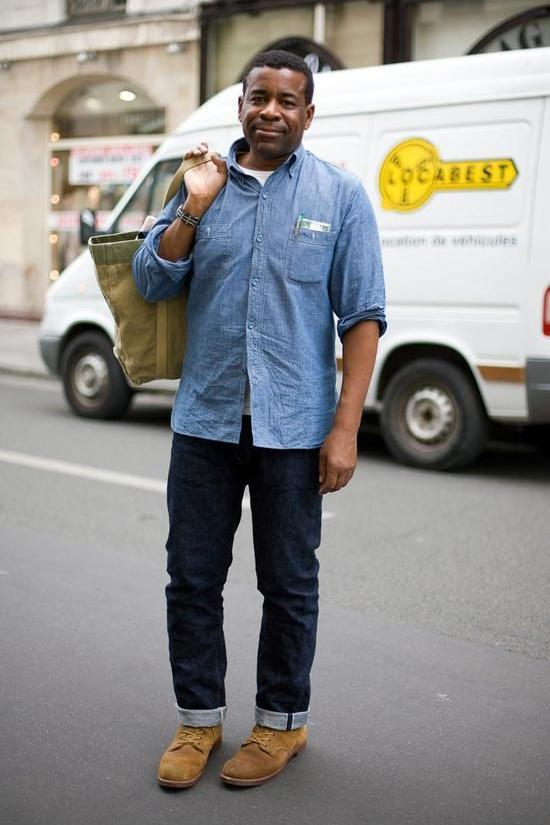pants: (166, 407, 323, 730)
shirt: (134, 139, 386, 450)
